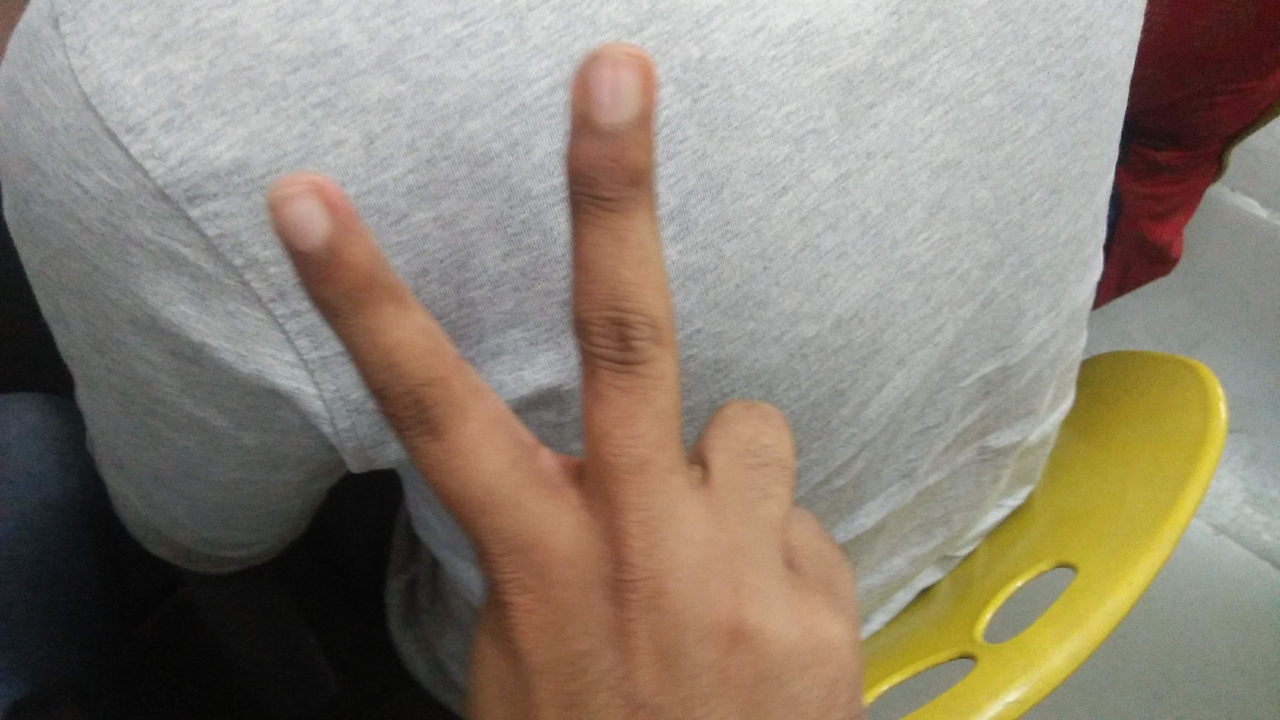fingertip: (247, 177, 347, 263), (570, 44, 654, 118)
